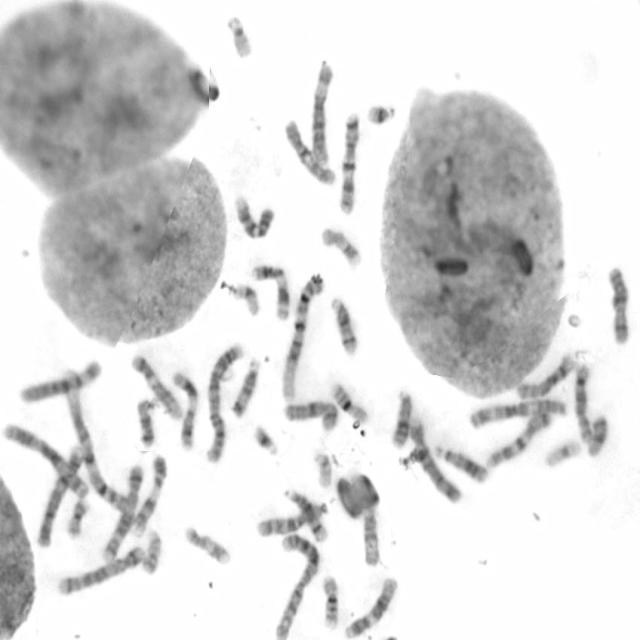A1: (61, 369, 136, 513), (278, 268, 326, 403)
A2: (202, 338, 246, 466), (271, 532, 321, 639)
A3: (0, 418, 91, 500), (465, 394, 568, 430)
B4: (34, 442, 86, 548), (406, 414, 463, 505)
B5: (54, 542, 148, 597), (100, 461, 145, 563)
C10: (282, 116, 338, 187), (254, 497, 328, 538)
C11: (249, 260, 291, 322), (169, 367, 199, 451)
C12: (128, 350, 184, 421), (341, 572, 399, 639)
C6: (16, 356, 104, 404), (307, 58, 336, 168)
C7: (482, 404, 553, 470), (335, 108, 361, 215)
C8: (513, 350, 577, 401), (571, 360, 594, 444)
C9: (130, 452, 168, 536), (232, 190, 276, 242)
D13: (433, 441, 489, 485), (388, 387, 414, 449)
D14: (280, 485, 328, 544), (328, 292, 360, 358)
D15: (228, 354, 262, 418), (359, 506, 381, 568)
E16: (328, 378, 369, 424), (318, 570, 341, 630)
E17: (182, 522, 232, 568), (318, 223, 363, 269)
E18: (584, 411, 610, 458), (134, 395, 157, 448)
F19: (542, 436, 583, 470), (231, 280, 261, 318)
F20: (138, 526, 163, 576), (64, 495, 90, 538)
G21: (364, 98, 398, 128), (250, 422, 280, 456)
G22: (223, 11, 255, 61), (310, 448, 334, 489)
X: (604, 262, 632, 347), (281, 396, 340, 432)
